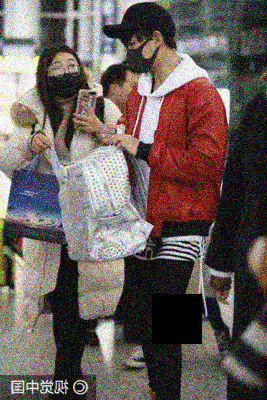with_mask: (46, 57, 84, 99), (125, 40, 153, 76)
